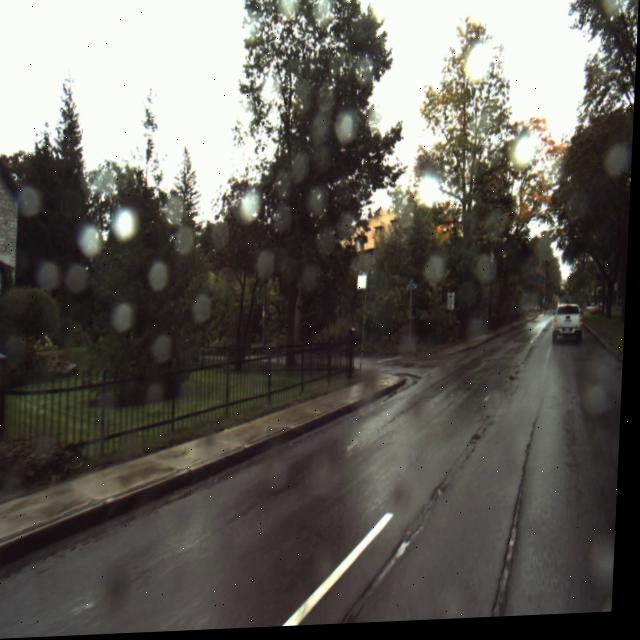car: (555, 306, 589, 350)
